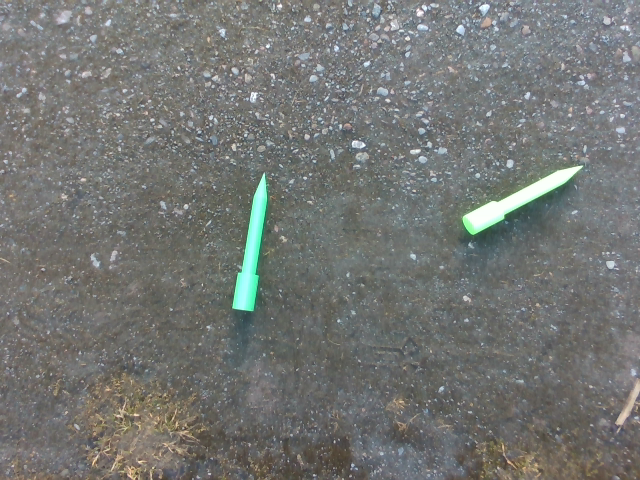Probe: (459, 160, 590, 244), (224, 164, 277, 321)
